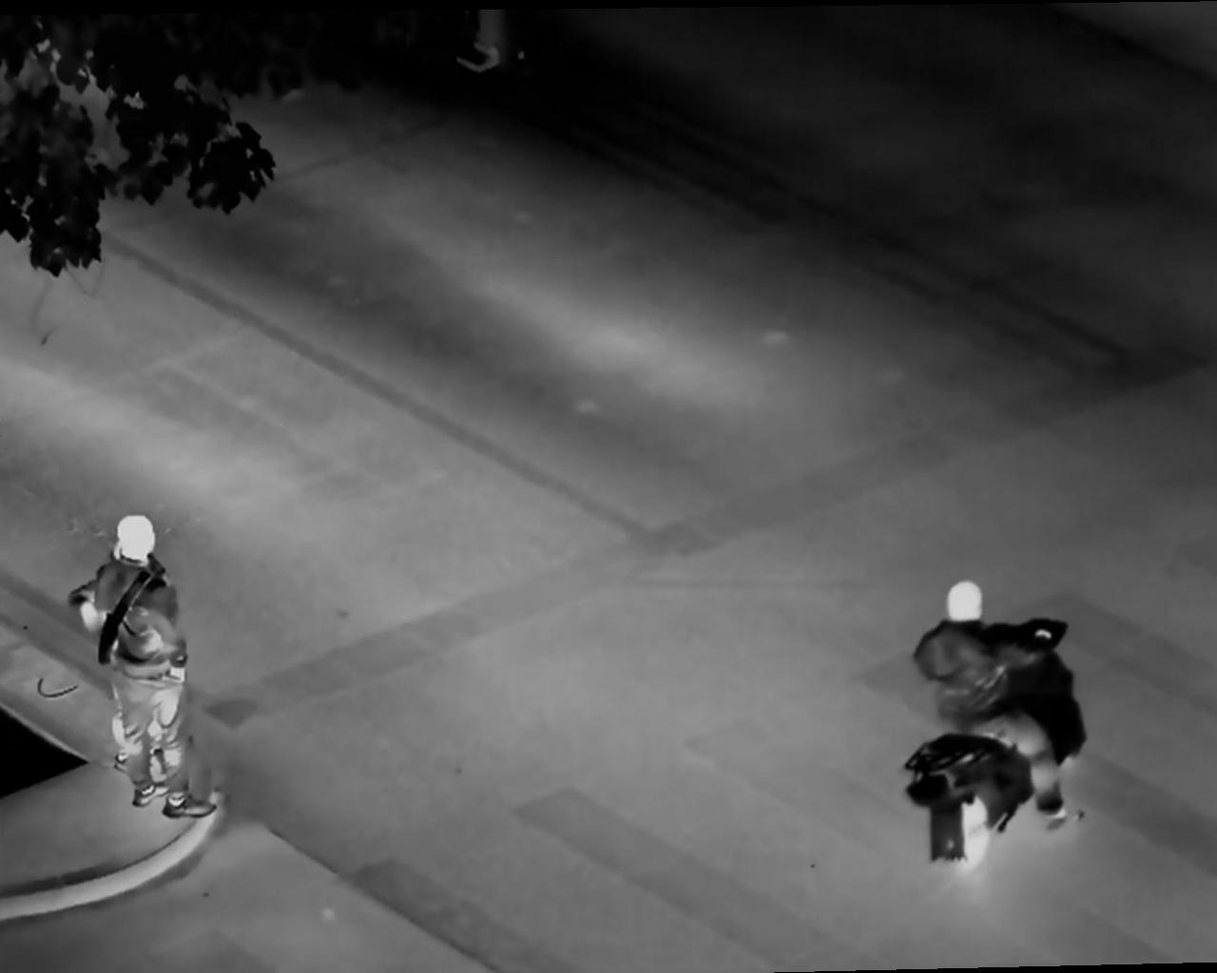person: (909, 575, 1080, 837), (64, 519, 215, 815)
